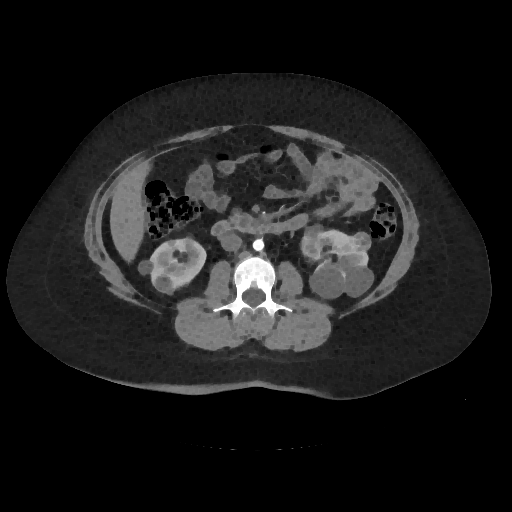Lesion: (350, 228, 374, 256)
